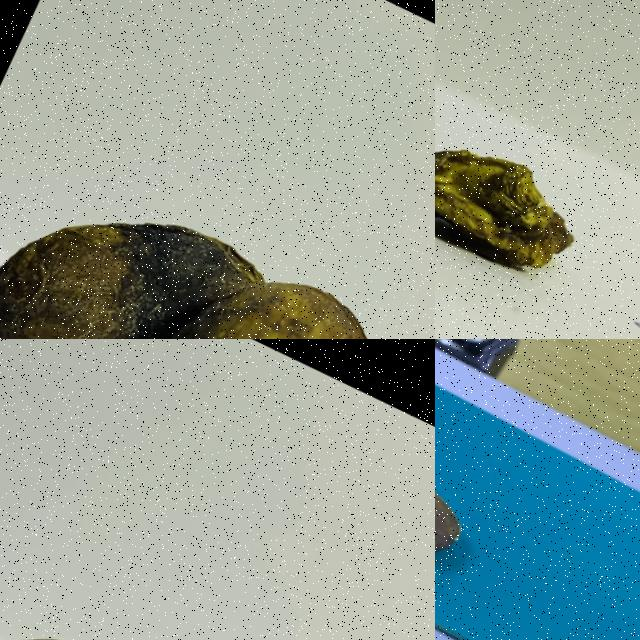Agglomerated_cocoabeans: (0, 84, 434, 338)
Fine_cocoabeans: (0, 488, 374, 639), (435, 384, 538, 632)
Flat_cocoabeans: (435, 25, 639, 338)
